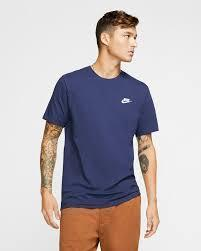Tshirt: (42, 65, 160, 209)
